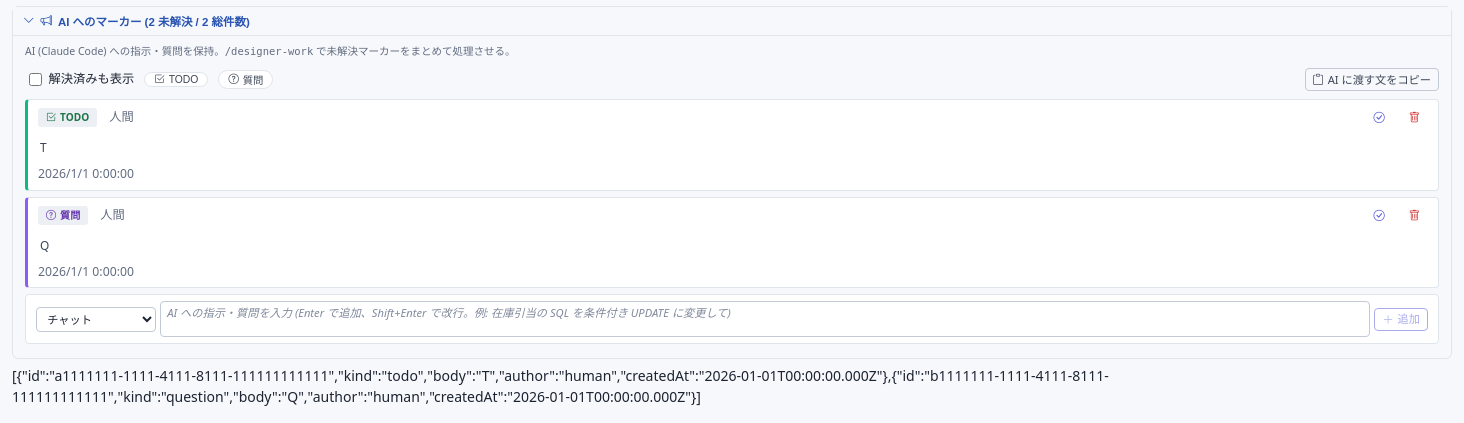
Test: MarkerListPanel › 種類で絞り込める (凡例を兼ねる)。1 種類しか無ければ、絞り込みの印は出さない
Expected: the text "T" is shown, [40, 139, 47, 155]
Click the button "質問". click: (246, 79)
box: [218, 70, 274, 89]
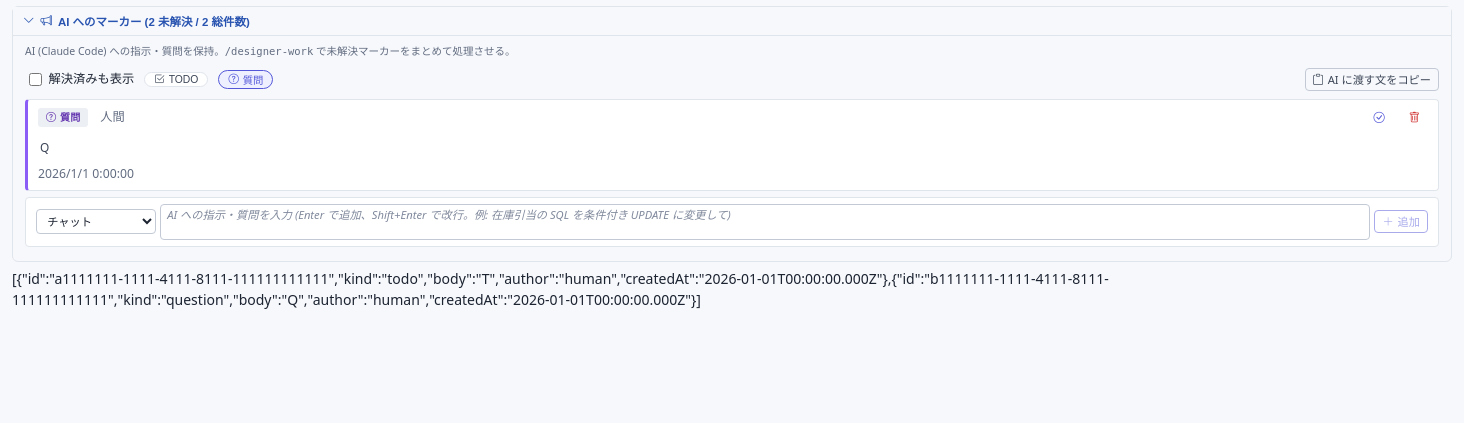
Expected: the text "Q" is shown, [40, 139, 49, 155]
Click the button "質問". click: (246, 79)
box: [218, 70, 274, 89]
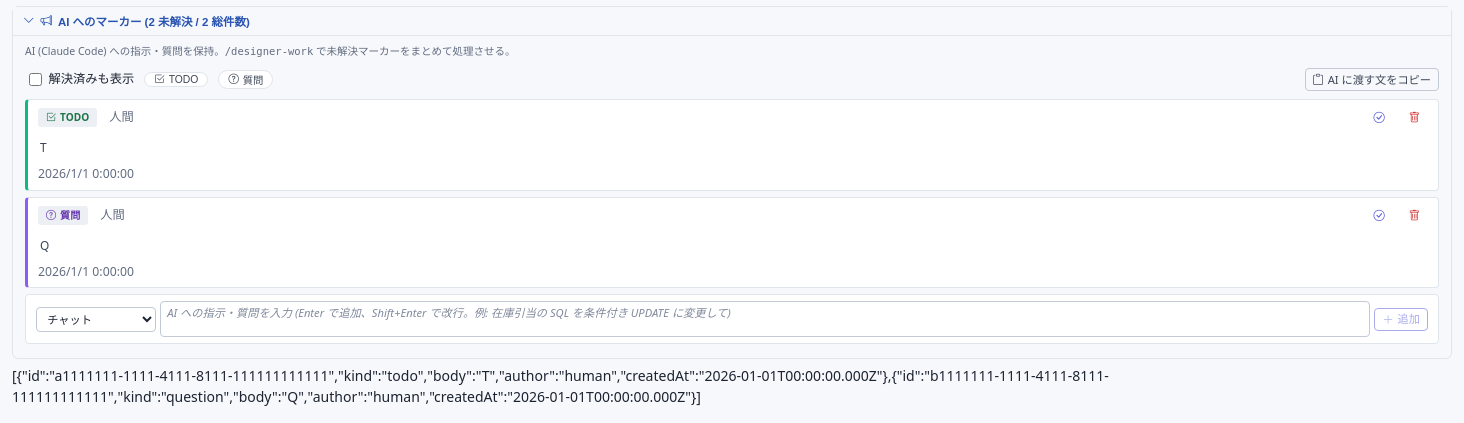
Now the text "T" is shown, box [40, 139, 47, 155]
